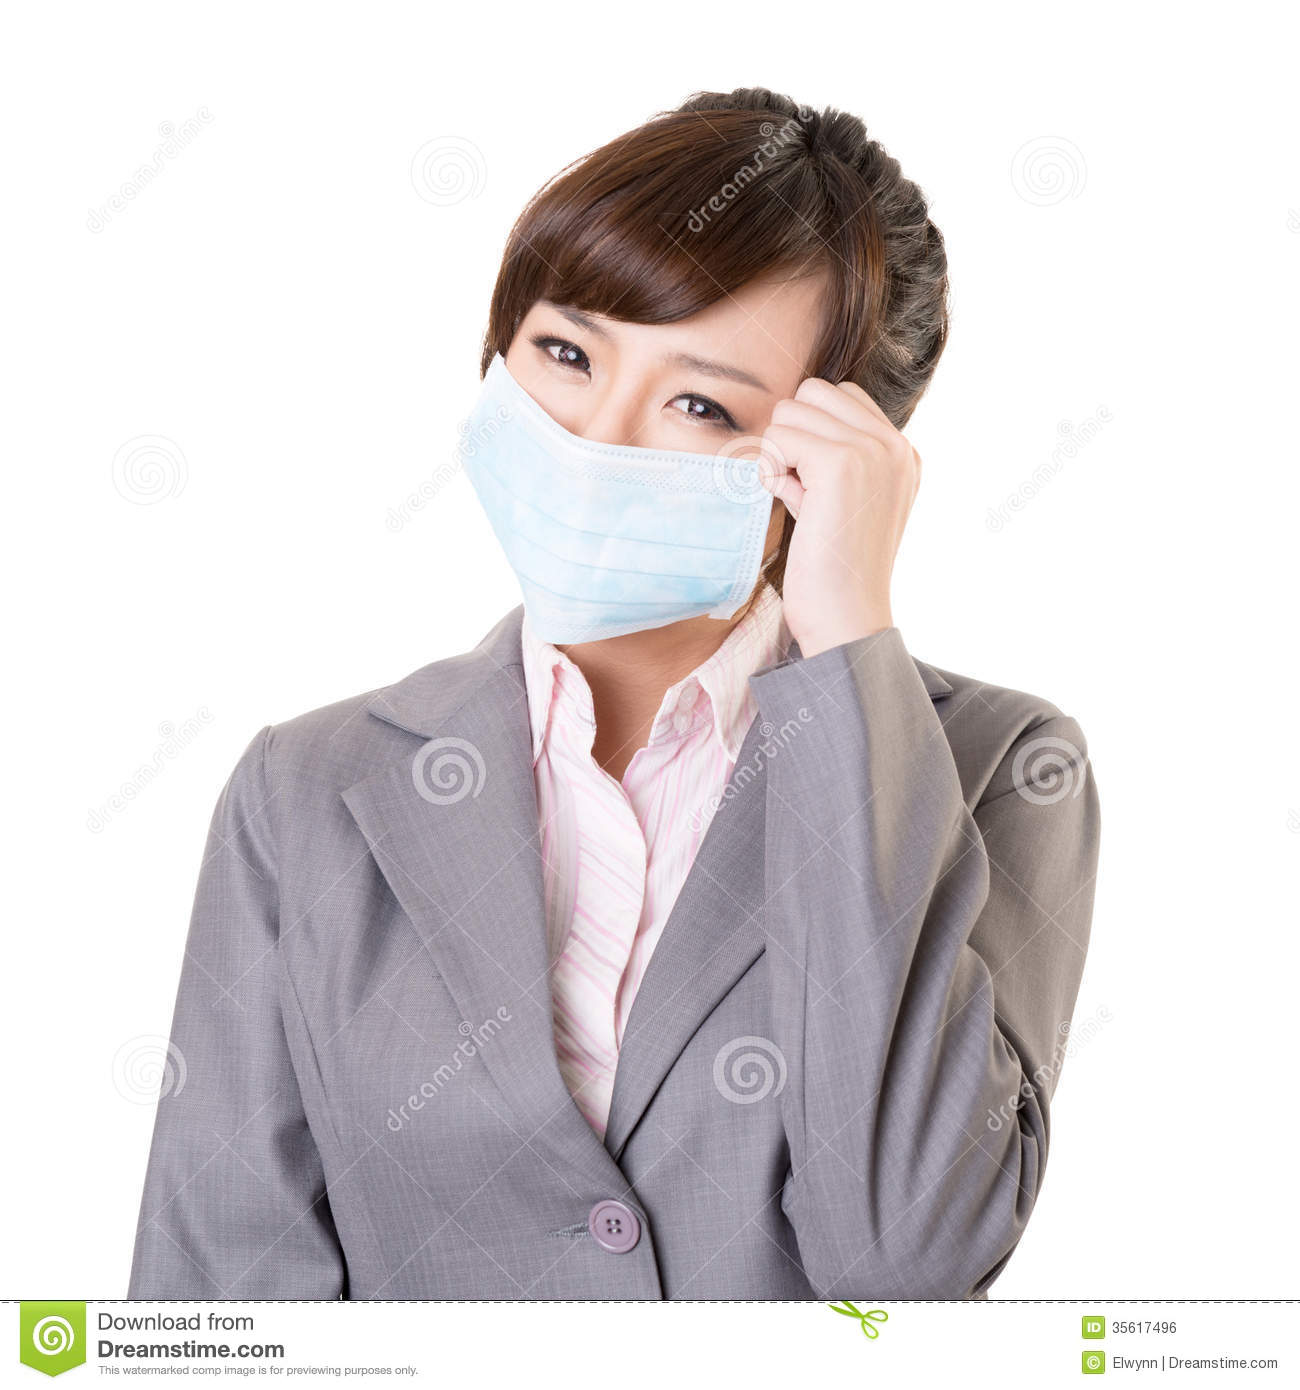mask: (462, 362, 762, 642)
